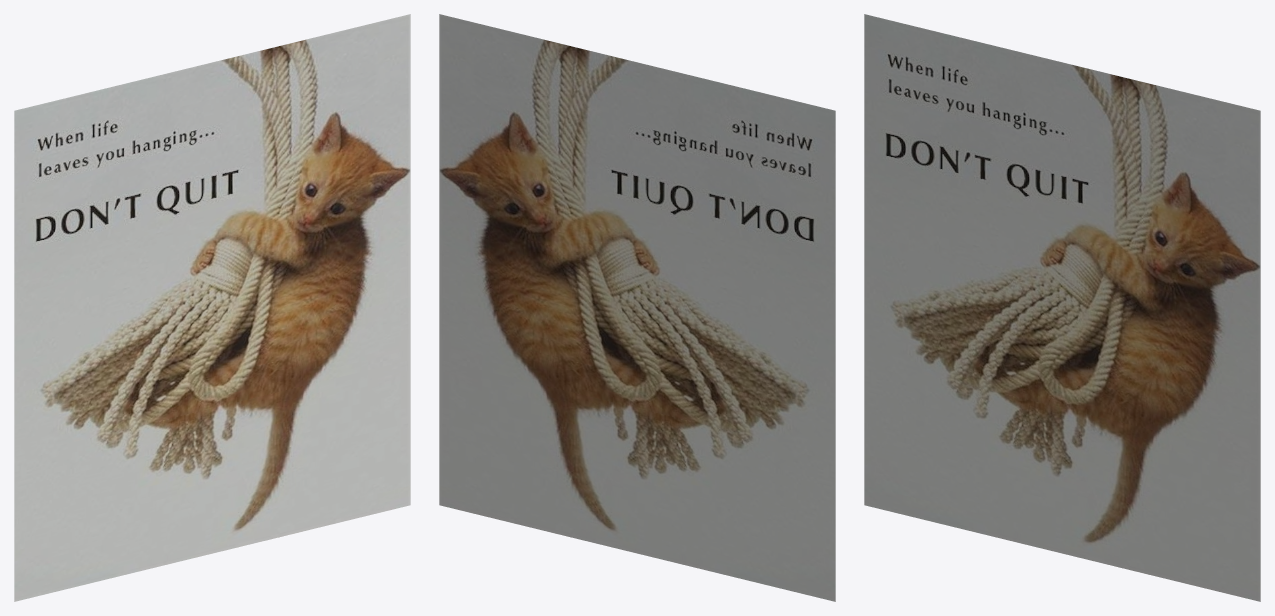
Rendered from poster gatito.fbx.
3 renders of one model, left to right at view 1: azimuth 30°, elevation 25°; view 2: azimuth 150°, elevation 25°; view 3: azimuth 330°, elevation 25°, orthographic.
Visible parts, largest first — view 1: Plane001; view 2: Plane001; view 3: Plane001.
Part boxes in pixels (x1,y1,x2,y2): Plane001: (14,14,410,601); Plane001: (439,14,835,601); Plane001: (864,14,1260,601).
Bounding box in the file's own units: 43.47 × 51.44 × 8.38e-06.
